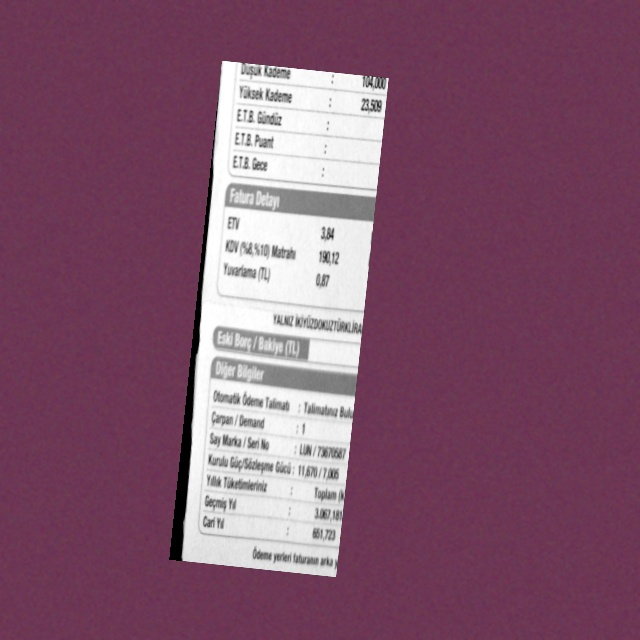electricity-bill: (168, 60, 388, 576)
